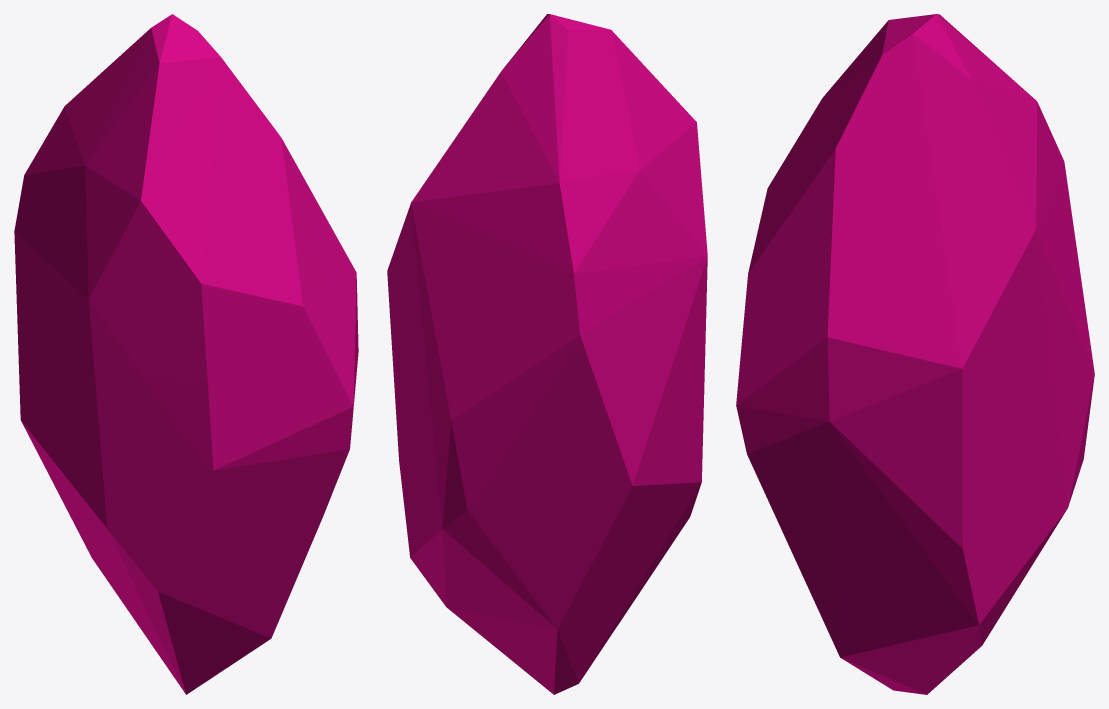
File: SM_Soul Crystal (Broken).fbx
3 renders of one model, left to right at view 1: azimuth 30°, elevation 25°; view 2: azimuth 150°, elevation 25°; view 3: azimuth 270°, elevation 25°, orthographic. The views are drawn at different scales.
Visible parts, largest first — view 1: Crystal, Crystal_cell.007, Crystal_cell.001, Crystal_cell.006, Crystal_cell, Crystal_cell.004, Crystal_cell.002, Crystal_cell.003; view 2: Crystal_cell.004, Crystal, Crystal_cell.003, Crystal_cell, Crystal_cell.005, Crystal_cell.001, Crystal_cell.007, Crystal_cell.002; view 3: Crystal_cell.005, Crystal, Crystal_cell.002, Crystal_cell.006, Crystal_cell.003, Crystal_cell, Crystal_cell.004.
Part boxes in pixels (<box>): Crystal: <box>14,47,358,694</box>; Crystal_cell.007: <box>20,350,271,640</box>; Crystal_cell.001: <box>69,132,270,382</box>; Crystal_cell.006: <box>189,291,358,520</box>; Crystal_cell: <box>73,14,232,145</box>; Crystal_cell.004: <box>15,99,82,404</box>; Crystal_cell.002: <box>202,74,341,318</box>; Crystal_cell.003: <box>34,446,283,694</box>; Crystal_cell.004: <box>438,168,695,484</box>; Crystal: <box>398,16,707,694</box>; Crystal_cell.003: <box>402,462,636,694</box>; Crystal_cell: <box>475,14,648,180</box>; Crystal_cell.005: <box>387,168,452,483</box>; Crystal_cell.001: <box>609,80,707,317</box>; Crystal_cell.007: <box>598,313,706,591</box>; Crystal_cell.002: <box>435,113,477,185</box>; Crystal_cell.005: <box>802,189,1081,566</box>; Crystal: <box>736,14,1093,693</box>; Crystal_cell.002: <box>748,74,1030,314</box>; Crystal_cell.006: <box>736,278,930,619</box>; Crystal_cell.003: <box>838,428,1084,694</box>; Crystal_cell: <box>841,14,1027,158</box>; Crystal_cell.004: <box>1025,93,1094,427</box>.
Bounding box in the file's own units: 0.9487 × 2.29 × 1.09.
